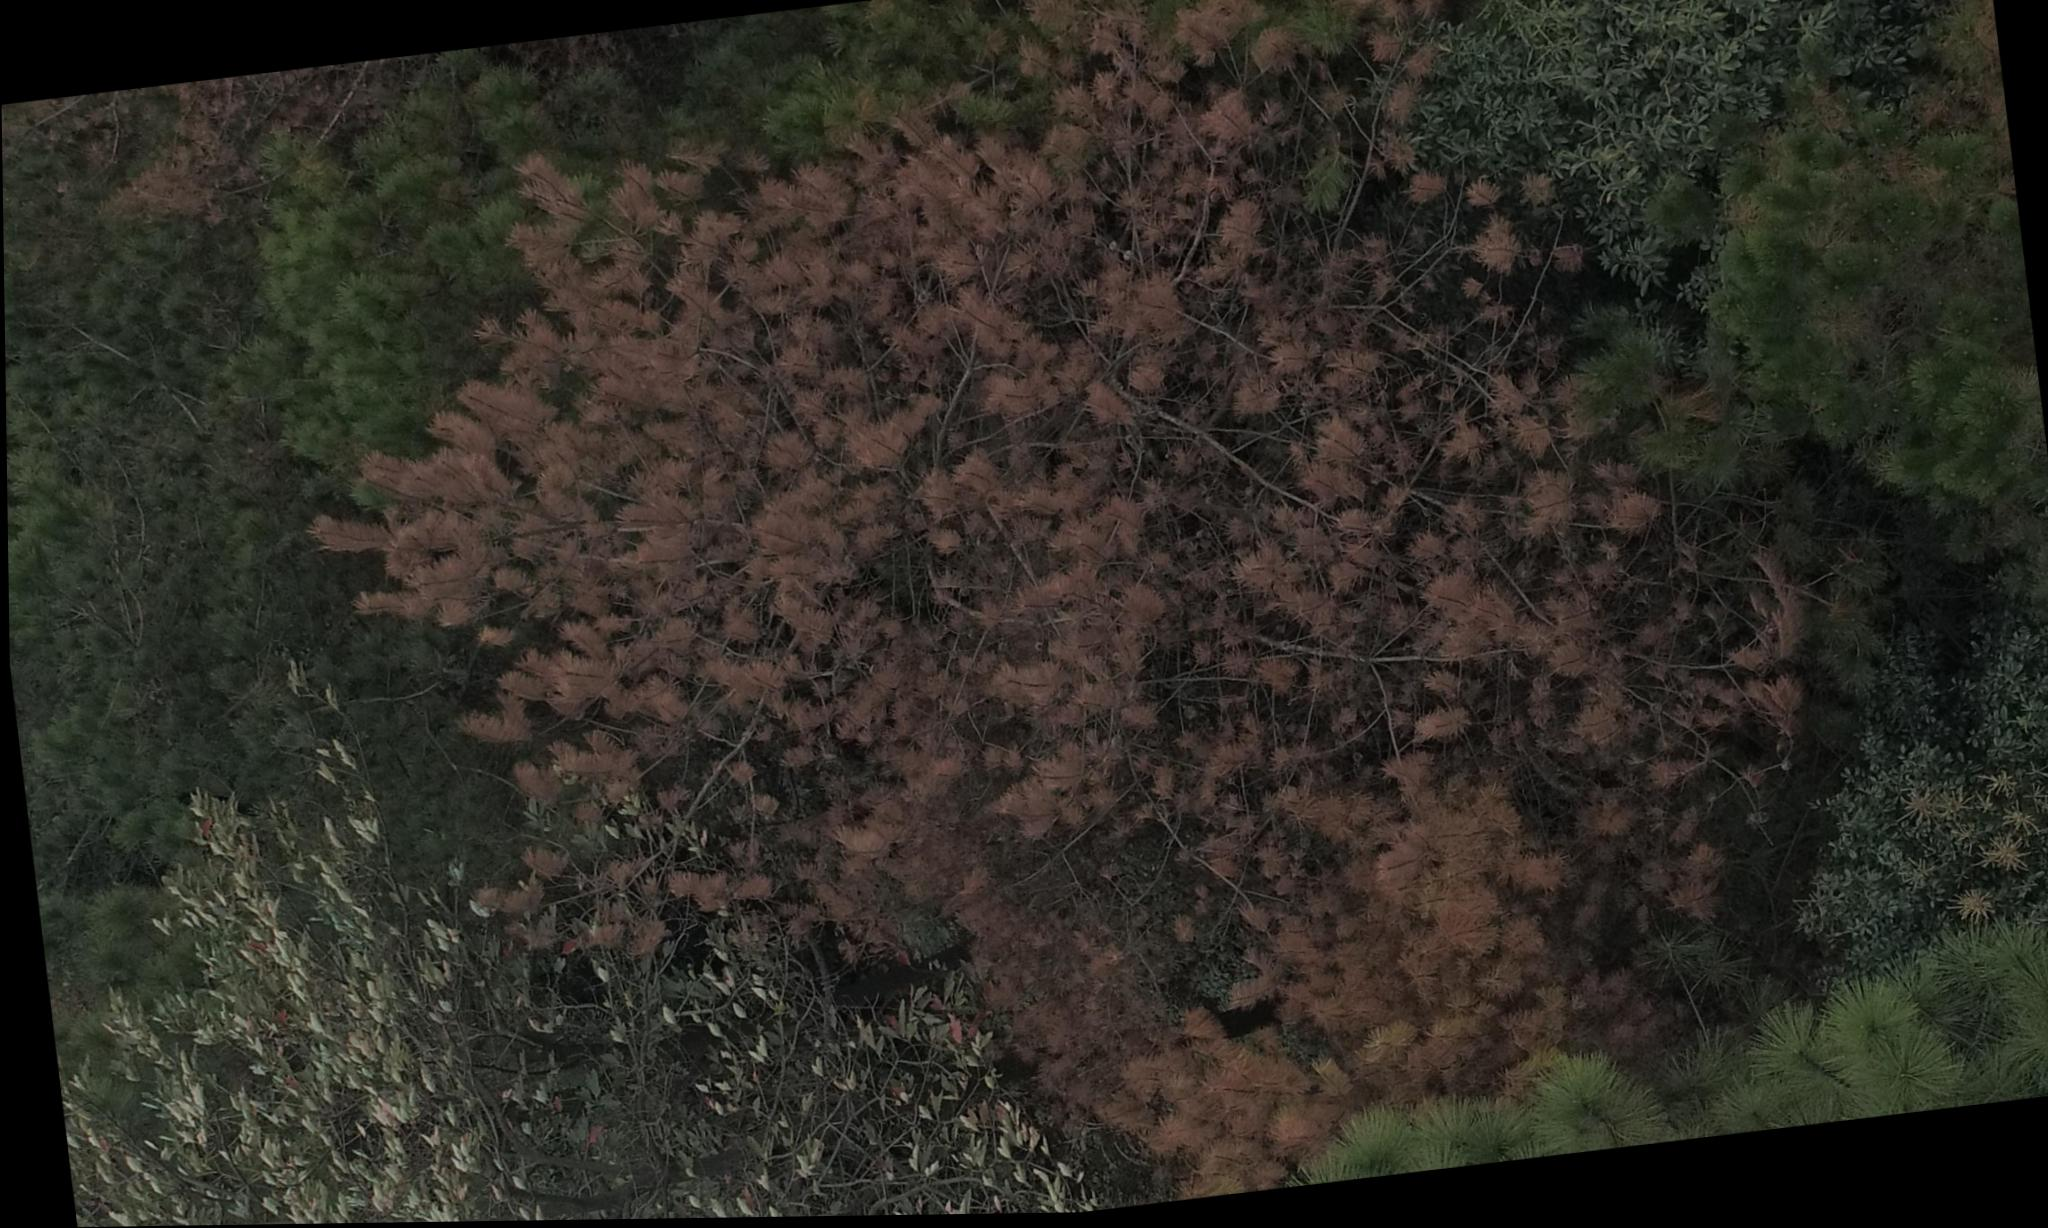heavy: (307, 0, 1845, 1225)
